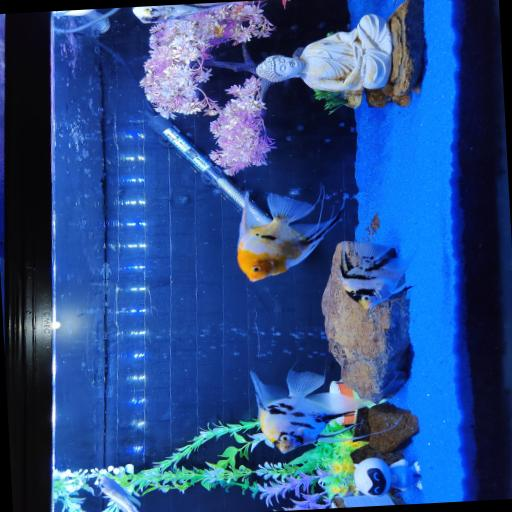Fish: (251, 369, 373, 452), (238, 191, 344, 280), (341, 241, 412, 307), (133, 2, 234, 22), (99, 475, 140, 511)
